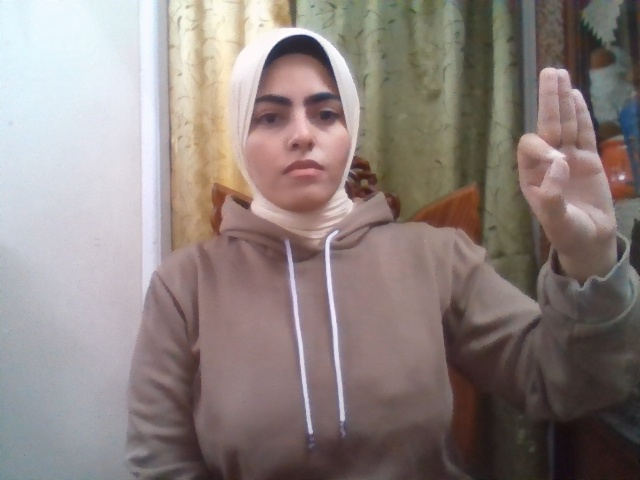F: (517, 67, 617, 257)
